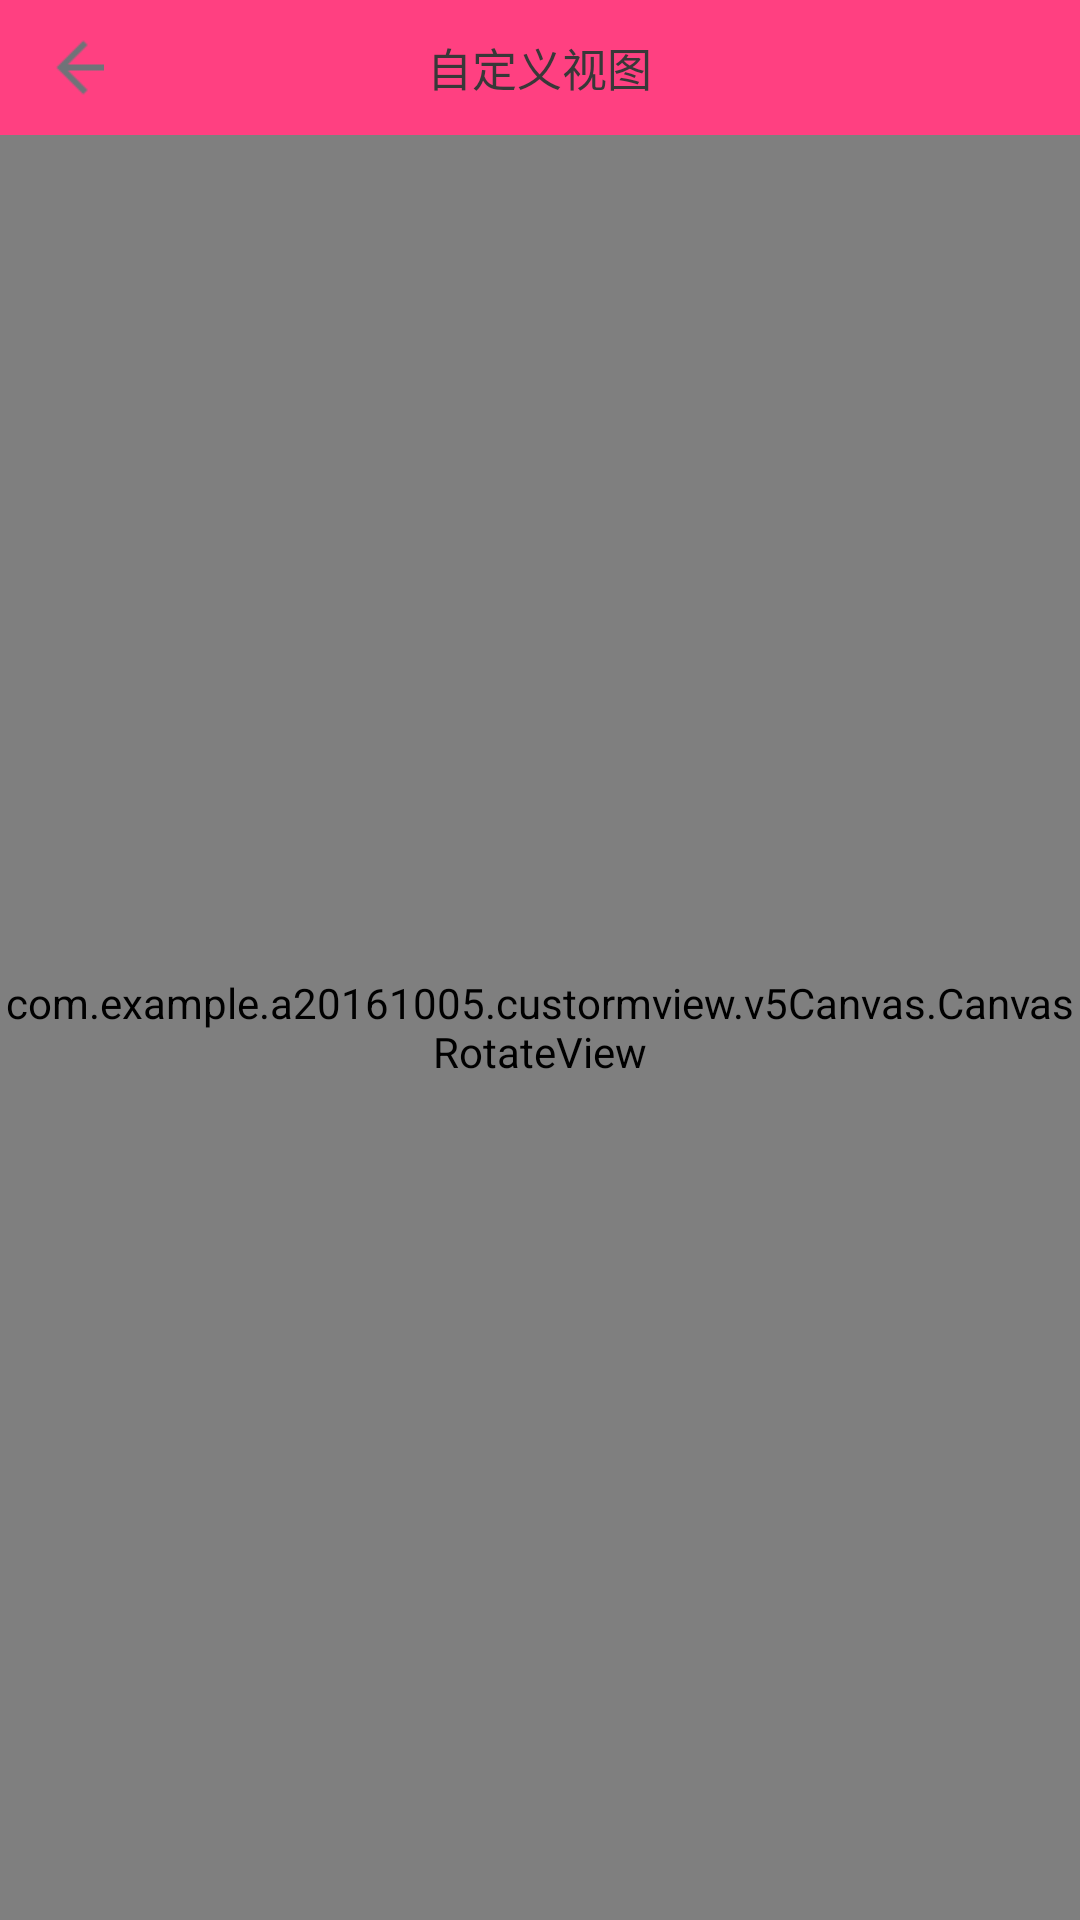

Icons on this 1080 x 1920 Android screen, each with the point to tap as (x,y):
title back: (80,67)
